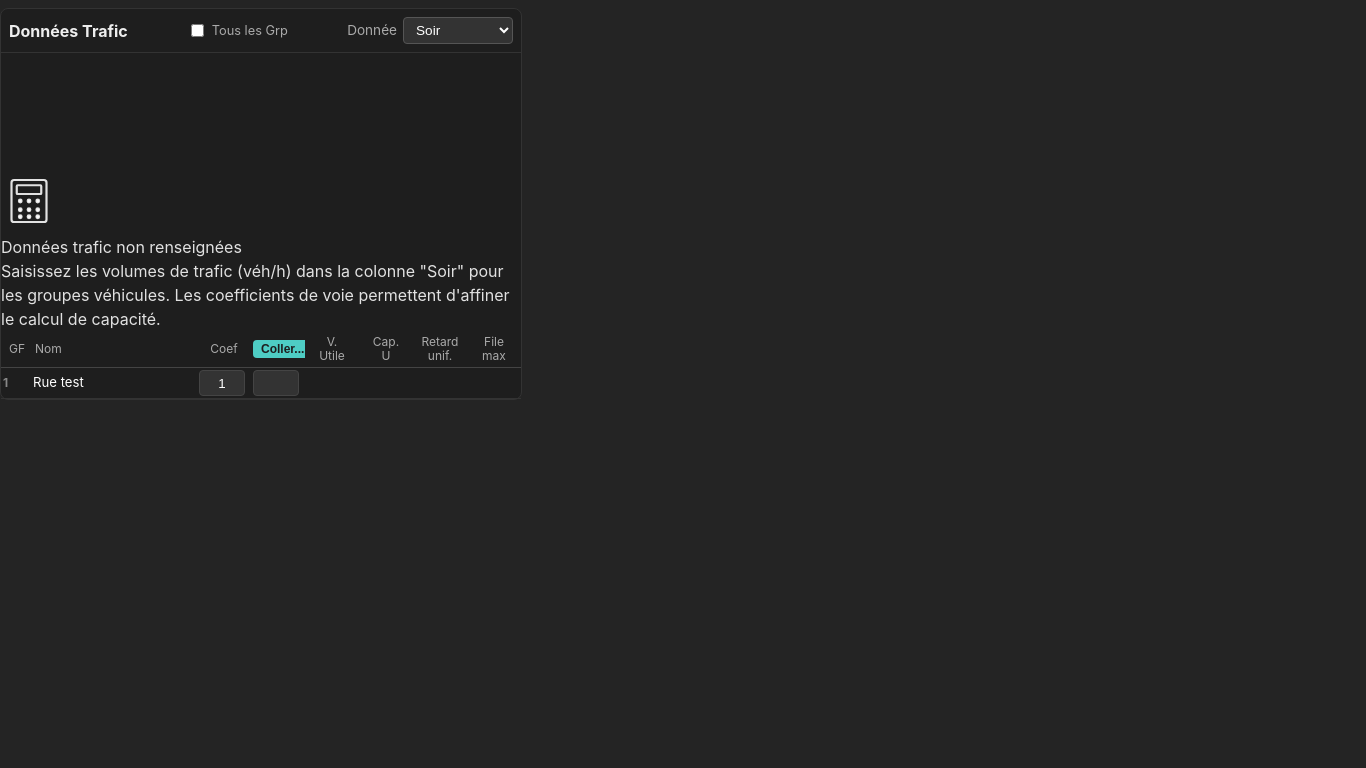
Test: TrafficTable — suppression du jeu affiché › Annuler ne supprime rien
This screenshot has width=1366, height=768.
Press -
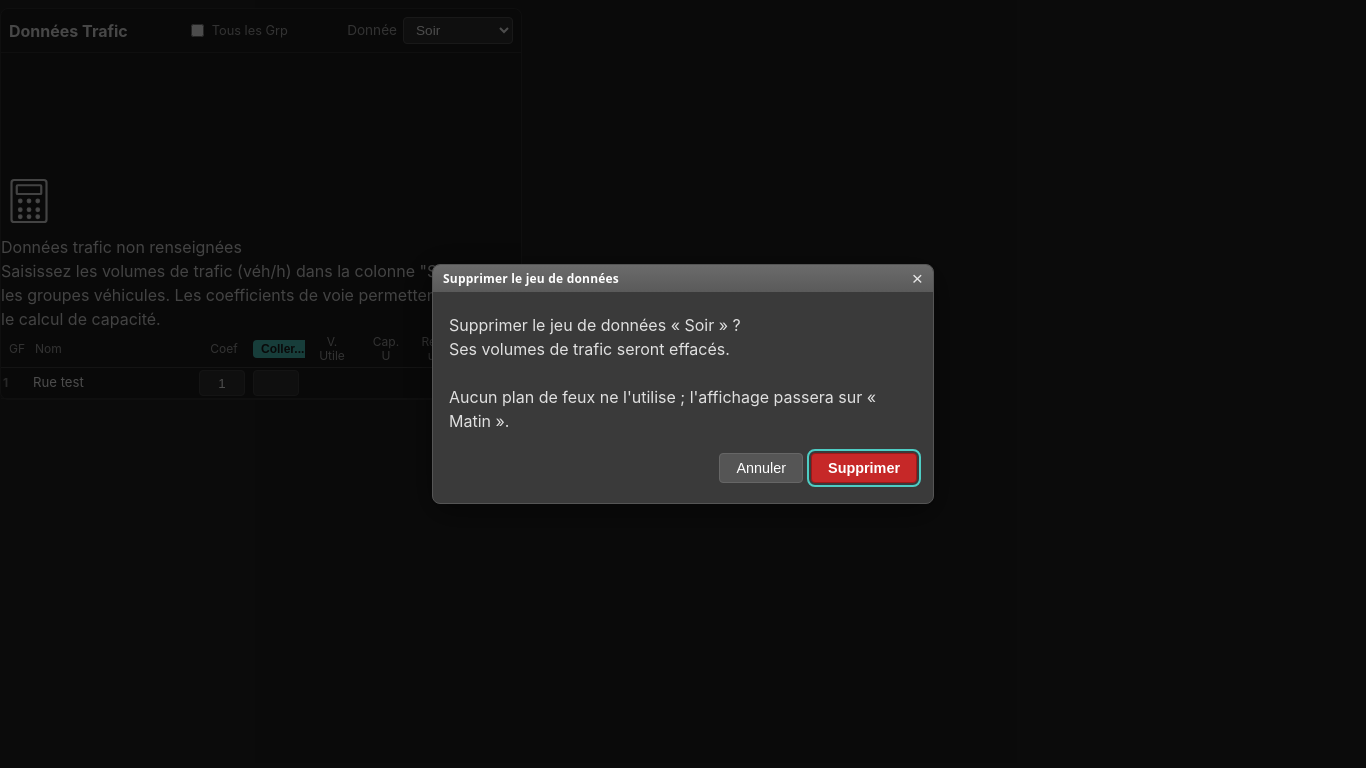
Expected: the text "Aucun plan de feux ne l'utilise" is shown, [449,315,880,431]
Click the button "Annuler": (761, 468) [719,453,803,483]
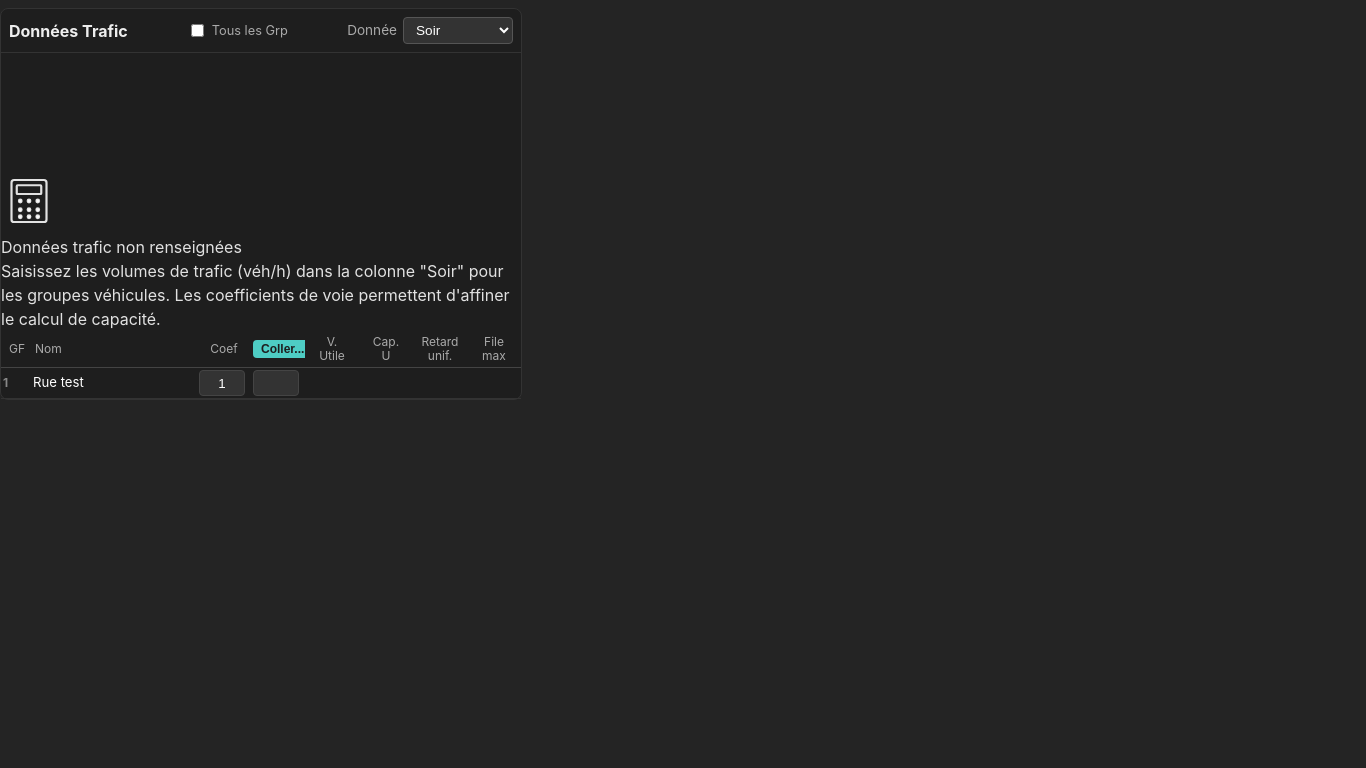
Expected: the heading "Supprimer le jeu de données" is gone
